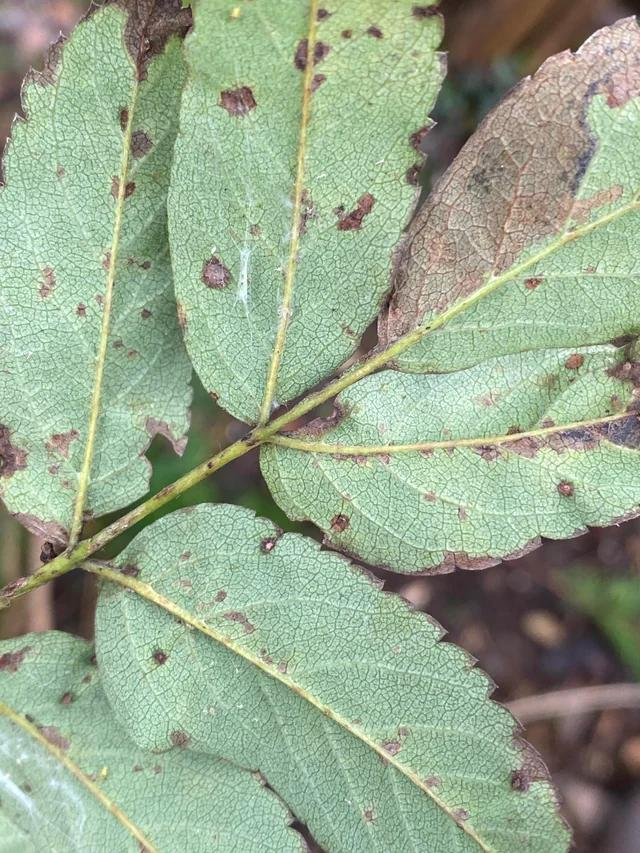leaf_spot: (20, 29, 640, 826)
